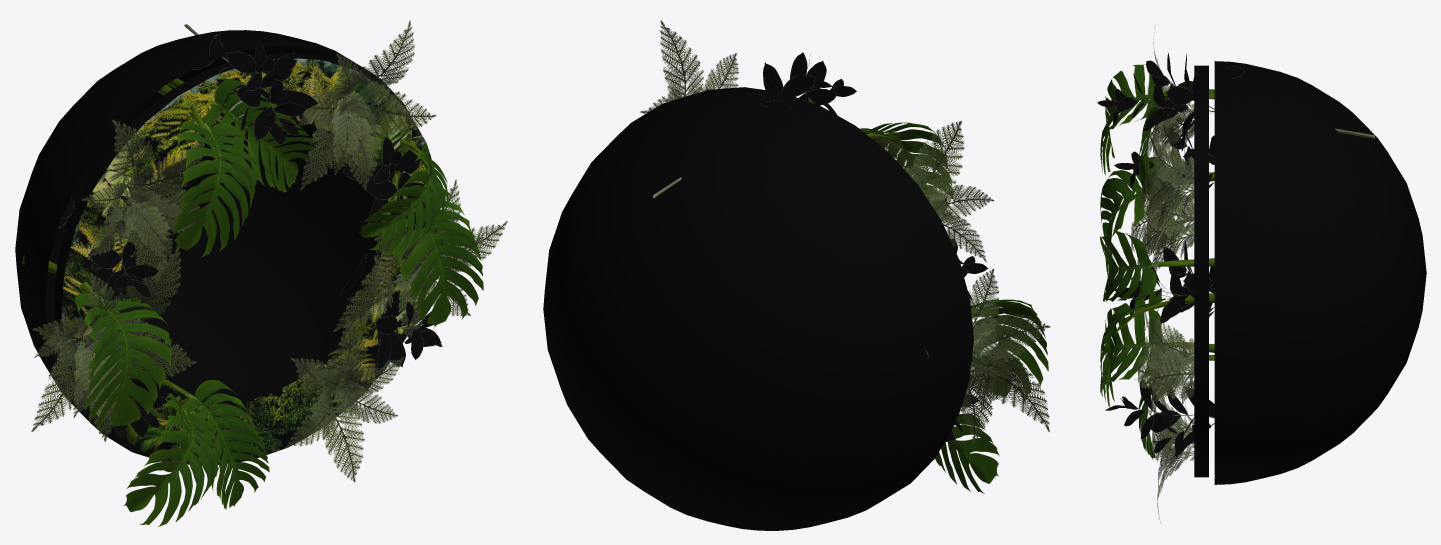
File: SoloPortal.glb
The picture shows the model from 3 angles, left to right: view 1: azimuth 30°, elevation 25°; view 2: azimuth 150°, elevation 25°; view 3: azimuth 270°, elevation 25°; orthographic projection. The views are drawn at different scales.
Parts seen in each view (by area): view 1: Circle, Fern Plant – Dense Foliage, monstera 03.001, Leaves.002; view 2: Circle, Fern Plant – Dense Foliage, monstera 03.001, Leaves.002; view 3: Circle, monstera 03.001, Fern Plant – Dense Foliage, Leaves.002.
Part boxes in pixels (bbox=[...]): Circle: bbox=[15, 30, 440, 465]; Fern Plant – Dense Foliage: bbox=[31, 20, 507, 482]; monstera 03.001: bbox=[22, 78, 483, 526]; Leaves.002: bbox=[50, 24, 442, 438]; Circle: bbox=[543, 87, 973, 530]; Fern Plant – Dense Foliage: bbox=[640, 20, 1050, 443]; monstera 03.001: bbox=[808, 97, 1048, 493]; Leaves.002: bbox=[652, 52, 988, 457]; Circle: bbox=[1194, 61, 1426, 484]; monstera 03.001: bbox=[1099, 64, 1214, 460]; Fern Plant – Dense Foliage: bbox=[1131, 25, 1194, 522]; Leaves.002: bbox=[1097, 53, 1375, 458].
Size of the model in its own units: 2.57 by 2.28 by 1.56.
7 materials, 5 textured.
